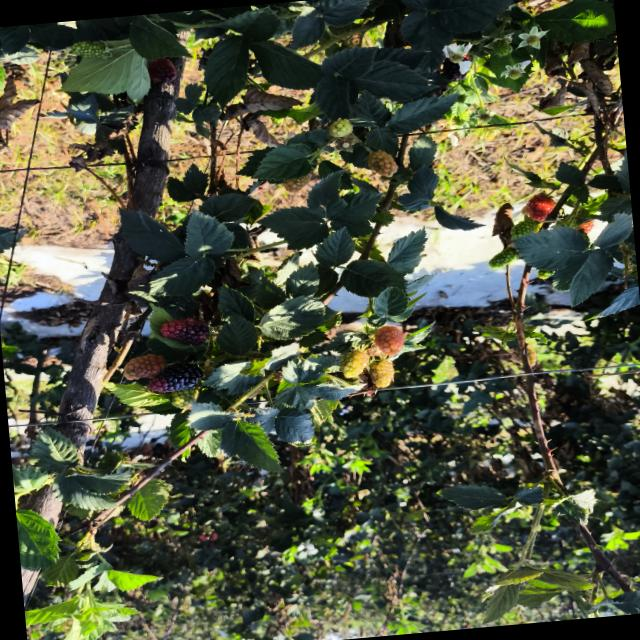marron: (147, 362, 202, 392), (160, 318, 208, 344)
naranja: (124, 353, 165, 380), (374, 325, 403, 356), (367, 150, 398, 177), (527, 194, 554, 220), (147, 58, 175, 81)
verde: (339, 350, 369, 378), (169, 388, 198, 412), (488, 246, 519, 268), (369, 360, 394, 387), (510, 216, 540, 238), (70, 40, 105, 58), (328, 118, 352, 137)
